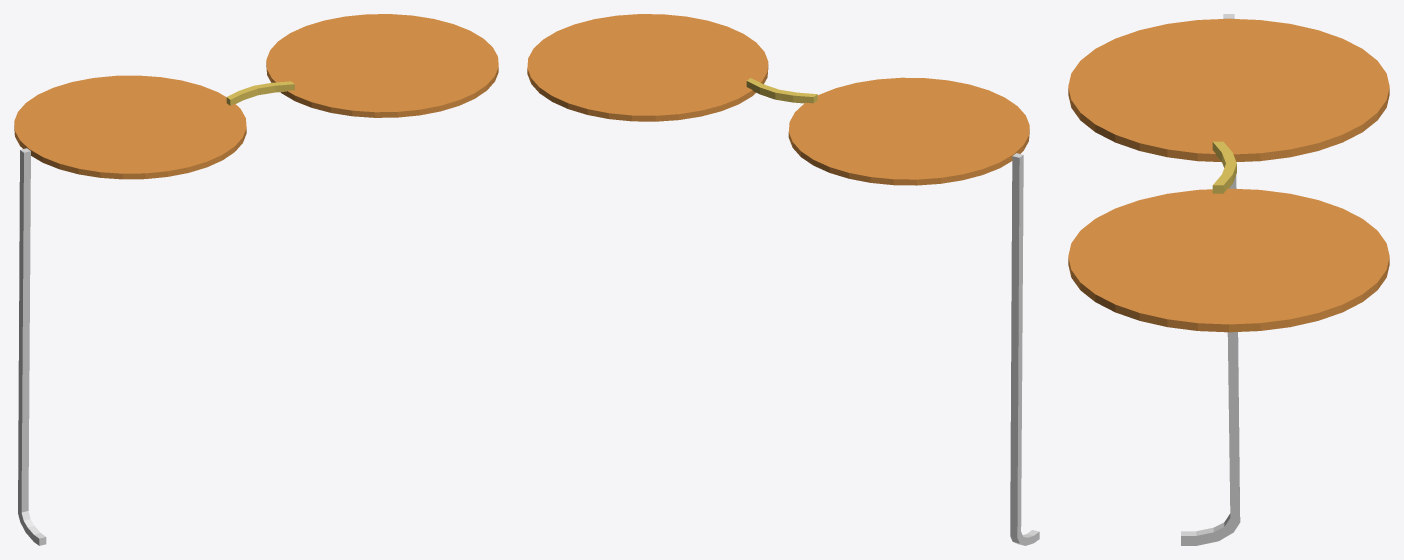
The model's file is Glasses.fbx.
3 views of the same model, side by side, from view 1: azimuth 30°, elevation 25°; view 2: azimuth 150°, elevation 25°; view 3: azimuth 270°, elevation 25° (orthographic). The views are drawn at different scales.
Visible parts, largest first — view 1: Circle, Circle.001, Cube.013, Cube.012; view 2: Circle, Circle.001, Cube.013, Cube.012; view 3: Circle.001, Circle, Cube.013, Cube.012.
Part boxes in pixels (<box>): Circle: <box>14,75,246,179</box>; Circle.001: <box>266,14,498,117</box>; Cube.013: <box>18,148,46,545</box>; Cube.012: <box>226,81,294,105</box>; Circle: <box>788,77,1029,185</box>; Circle.001: <box>527,14,768,121</box>; Cube.013: <box>1010,153,1039,545</box>; Cube.012: <box>746,78,817,103</box>; Circle.001: <box>1068,188,1389,332</box>; Circle: <box>1068,18,1389,162</box>; Cube.013: <box>1181,14,1240,545</box>; Cube.012: <box>1212,141,1236,193</box>.
Size of the model in its own units: 678 by 545 by 296.
